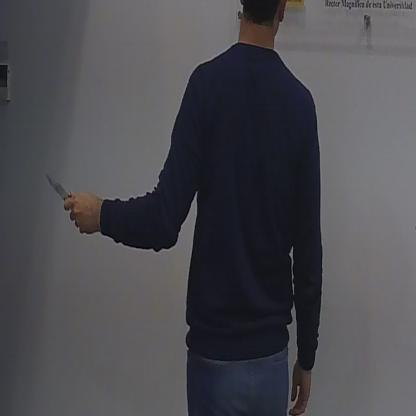knife: (41, 160, 84, 230)
